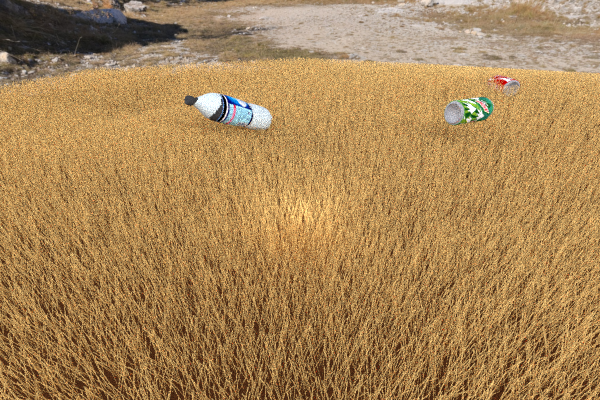bottle: (184, 92, 272, 130)
can: (444, 96, 493, 125), (486, 74, 520, 97)
